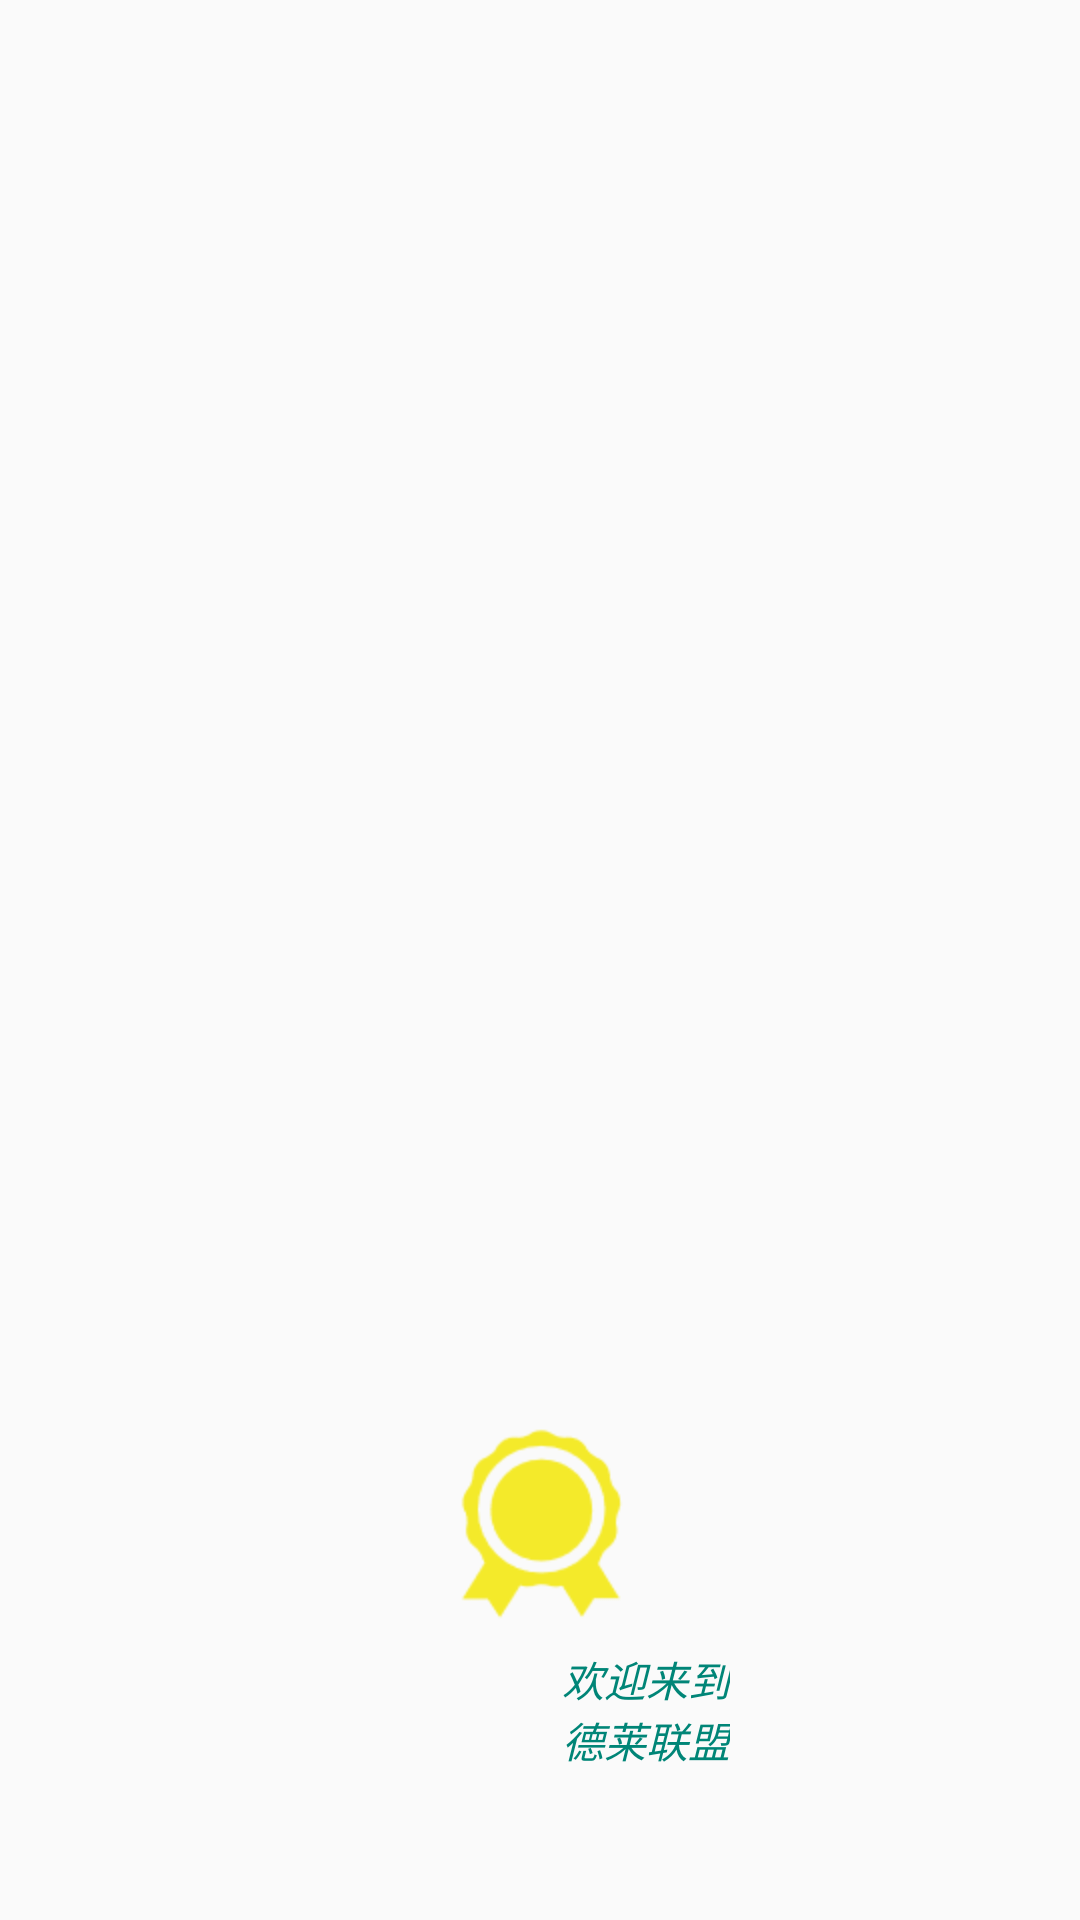

Icon click points for this 1080px x 1920px phone screenshot, format [x,y]:
guide jiangzhang: [541,1523]
